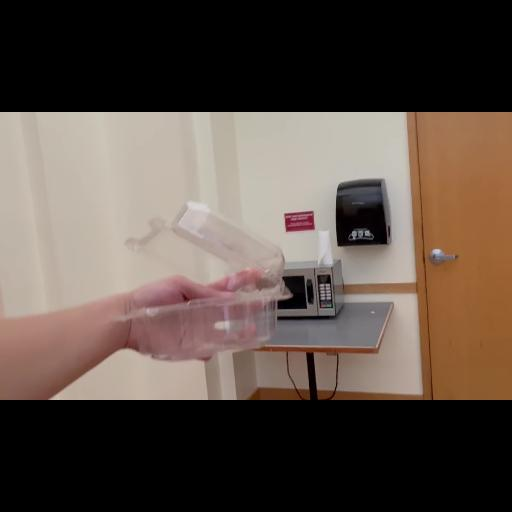small_plastic_container: (106, 196, 286, 364)
